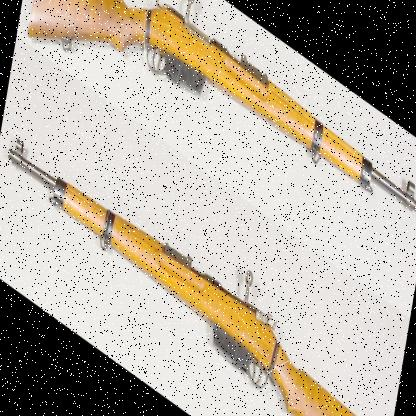rifle: (0, 105, 394, 415), (23, 0, 416, 302)
